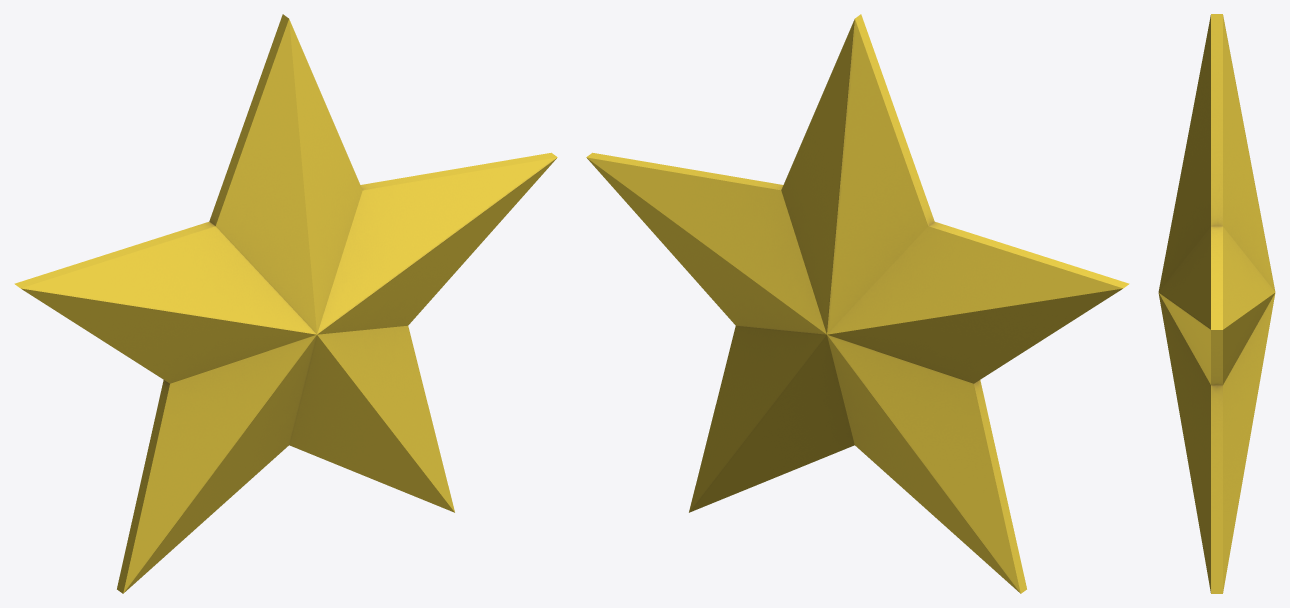
The model's file is Star.obj.
3 views of the same model, side by side, from view 1: azimuth 30°, elevation 25°; view 2: azimuth 150°, elevation 25°; view 3: azimuth 270°, elevation 25° (orthographic). The views are drawn at different scales.
Parts seen in each view (by area): view 1: Star_Star_0; view 2: Star_Star_0; view 3: Star_Star_0.
Boxes of the visible parts, x1=… form: Star_Star_0: x1=14, y1=14, x2=557, y2=593; Star_Star_0: x1=586, y1=14, x2=1129, y2=593; Star_Star_0: x1=1158, y1=14, x2=1275, y2=593.
Bounding box in the file's own units: 20.03 × 19.05 × 4.01.
Materials: 1 (1 with a texture image).
